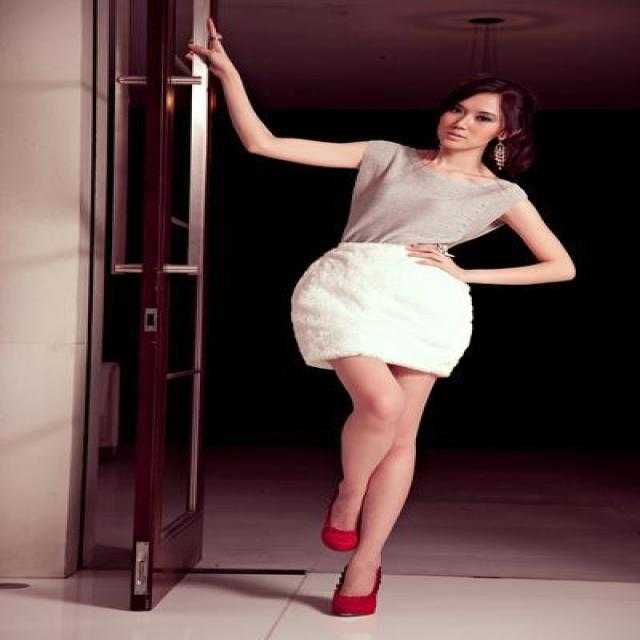shirt: (341, 141, 539, 261)
shoe: (322, 515, 379, 616)
skirt: (291, 242, 472, 376)
